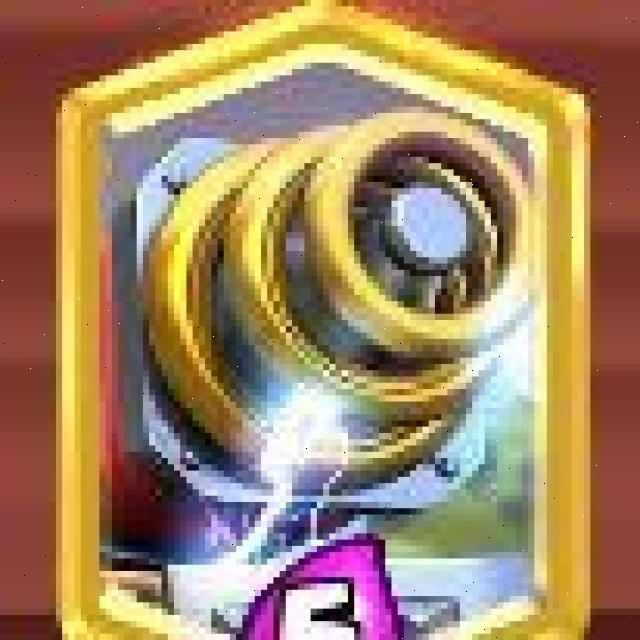Sparky: (60, 2, 588, 640)
